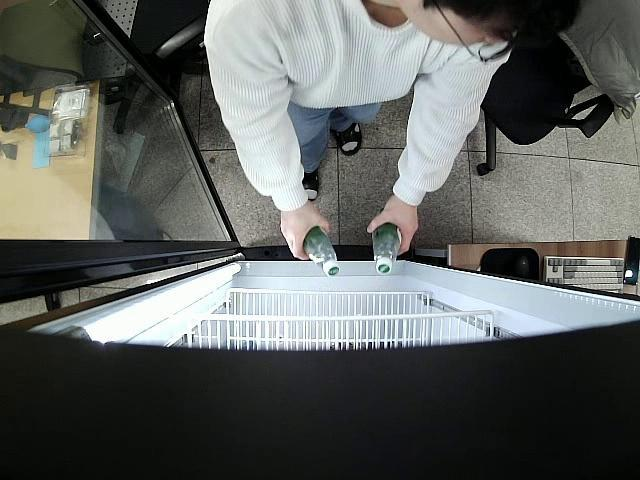18_trevi: (301, 225, 340, 280), (373, 220, 403, 274)
